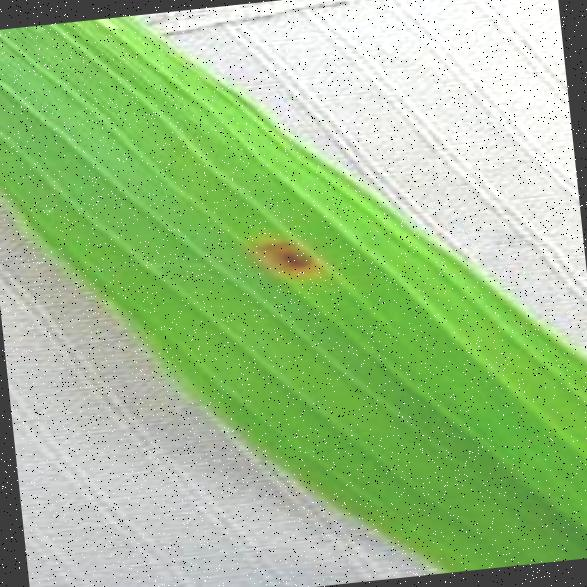Brown_Spot: (238, 222, 329, 287)
